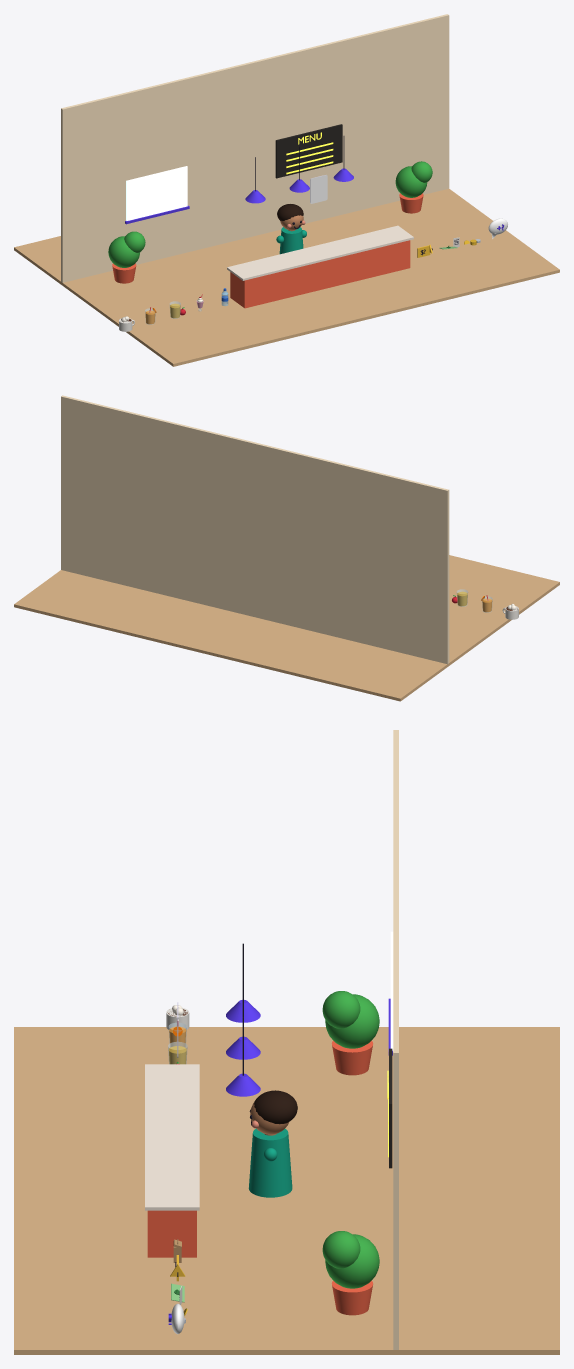
The model's file is cafe-flashcards.glb.
3 views of the same model, one above another, from view 1: azimuth 30°, elevation 25°; view 2: azimuth 150°, elevation 25°; view 3: azimuth 270°, elevation 25° (orthographic). The views are drawn at different scales.
Visible parts, largest first — view 1: env-wall, env-floor, env-counter, env-plants, env-menu-board, Customer, env-lamps, Card; view 2: env-wall, env-floor; view 3: env-floor, env-counter, env-plants, Customer, env-wall, env-lamps.
Boxes of the visible parts, x1=… form: env-wall: x1=61, y1=14, x2=449, y2=282; env-floor: x1=14, y1=188, x2=559, y2=366; env-counter: x1=227, y1=225, x2=413, y2=308; env-plants: x1=108, y1=161, x2=432, y2=283; env-menu-board: x1=275, y1=124, x2=342, y2=178; Customer: x1=276, y1=204, x2=306, y2=254; env-lamps: x1=245, y1=136, x2=353, y2=203; Card: x1=310, y1=175, x2=327, y2=203; env-wall: x1=61, y1=395, x2=449, y2=664; env-floor: x1=14, y1=555, x2=559, y2=701; env-floor: x1=14, y1=1027, x2=559, y2=1354; env-counter: x1=145, y1=1064, x2=199, y2=1257; env-plants: x1=322, y1=991, x2=379, y2=1315; Customer: x1=248, y1=1090, x2=297, y2=1197; env-wall: x1=388, y1=730, x2=398, y2=1349; env-lamps: x1=226, y1=943, x2=260, y2=1096.
Bounding box in the file's own units: 14.21 × 6.1 × 10.
